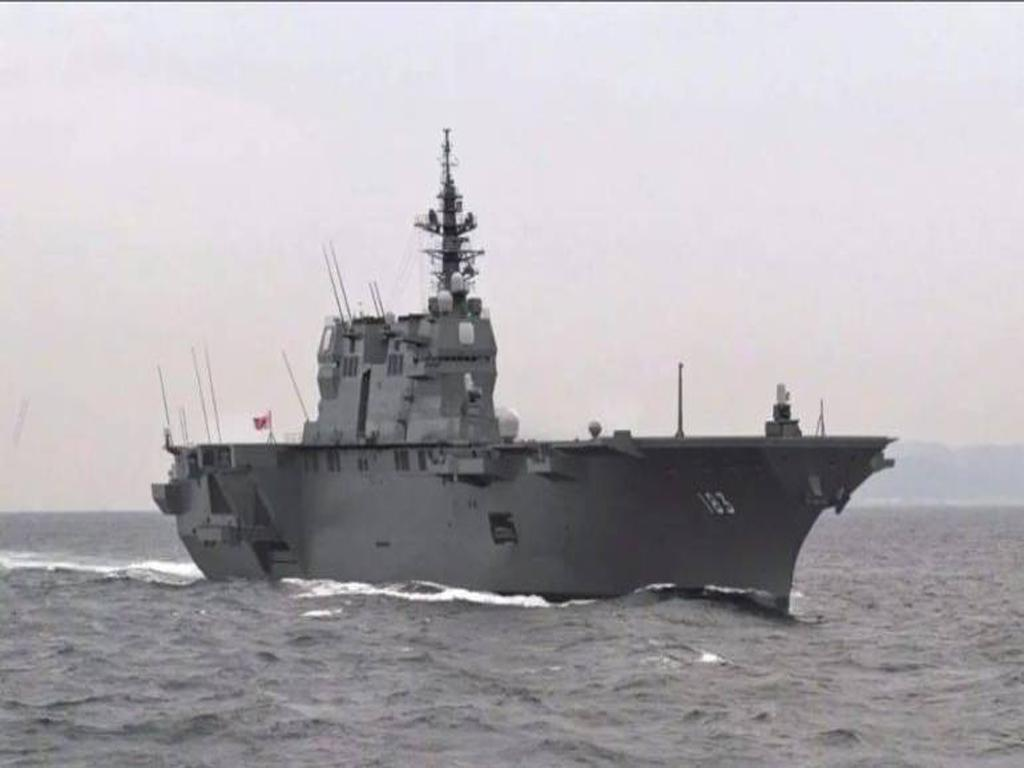Warship: (153, 130, 903, 636)
